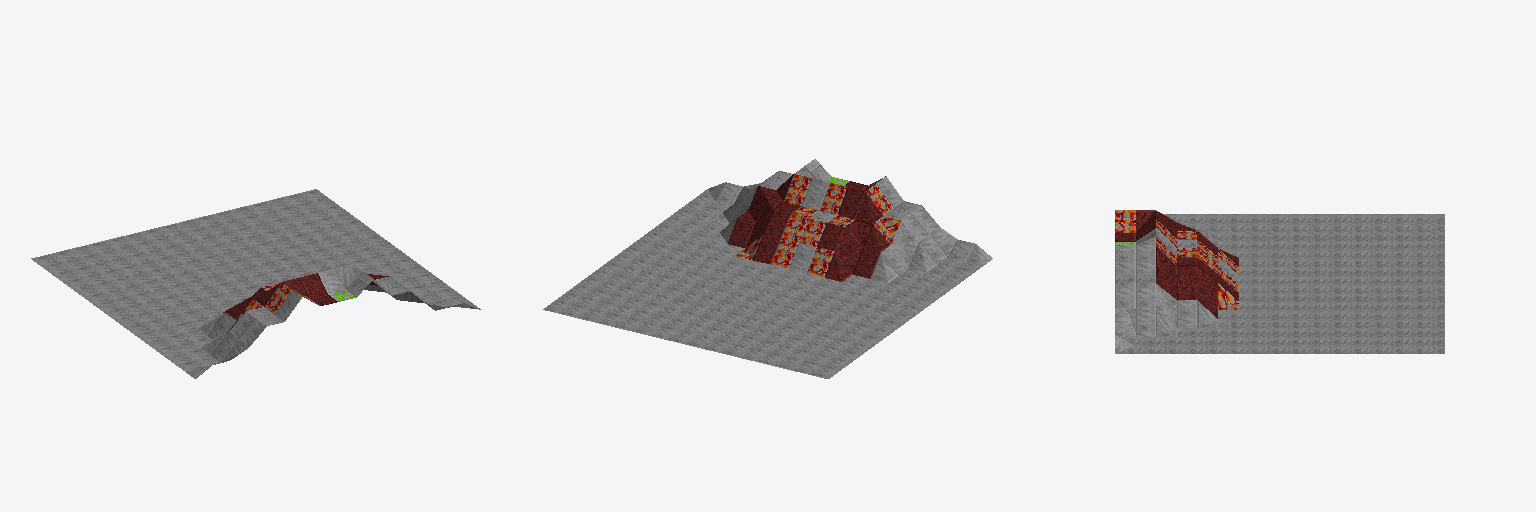
3 views of the same model, side by side, from view 1: azimuth 30°, elevation 25°; view 2: azimuth 150°, elevation 25°; view 3: azimuth 270°, elevation 25° (orthographic).
Visible parts, largest first — view 1: sideRock_2; view 2: sideRock_2; view 3: sideRock_2.
Part boxes in pixels (x1,y1,x2,y2): sideRock_2: (31,189,480,378); sideRock_2: (543,159,992,378); sideRock_2: (1115,210,1444,353).
Bounding box in the file's own units: 16 × 3.02 × 16.
Materials: 10 (10 with a texture image).